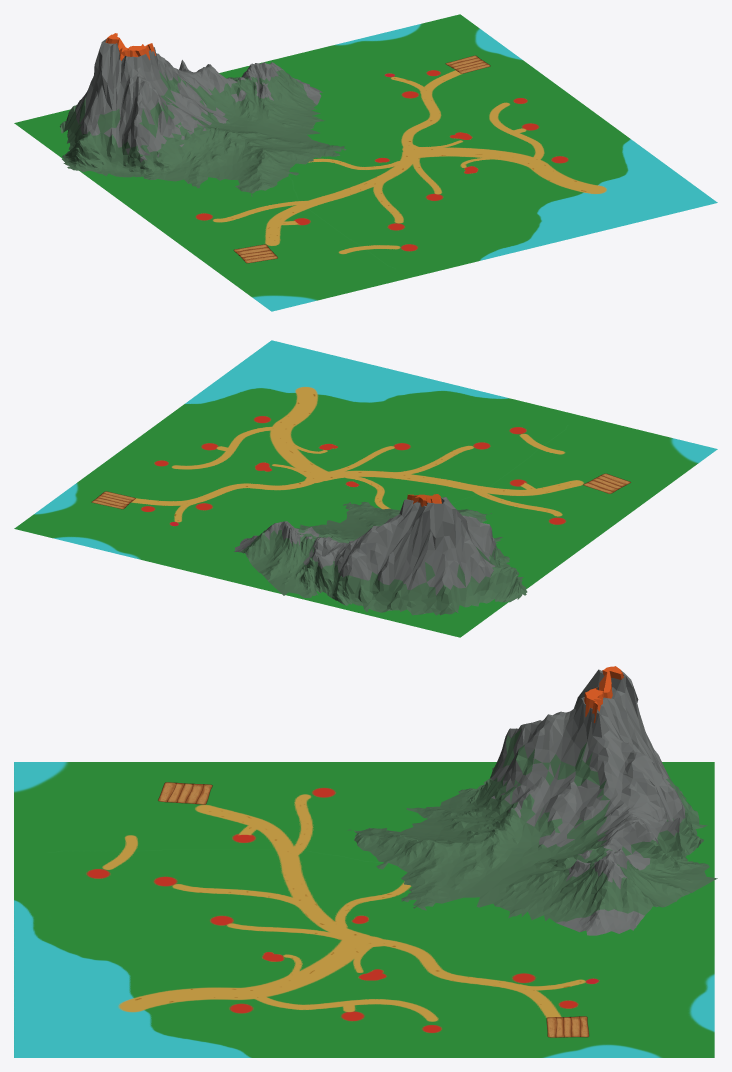
3 renders of one model, top to bottom at view 1: azimuth 30°, elevation 25°; view 2: azimuth 150°, elevation 25°; view 3: azimuth 270°, elevation 25°, orthographic. The views are drawn at different scales.
Visible parts, largest first — view 1: Ground.001, Mount, Empty.003, Mount.001, Empty.004; view 2: Ground.001, Mount, Empty.003, Empty.004; view 3: Ground.001, Mount, Empty.003, Empty.004, Mount.001.
Boxes of the visible parts, x1,y1,x2,y2 form: Ground.001: (14, 14, 717, 311); Mount: (60, 38, 346, 196); Empty.003: (233, 244, 277, 263); Mount.001: (105, 33, 155, 60); Empty.004: (445, 55, 490, 73); Ground.001: (14, 340, 717, 637); Mount: (234, 497, 527, 615); Empty.003: (583, 473, 630, 493); Empty.004: (91, 491, 135, 509); Ground.001: (14, 762, 714, 1057); Mount: (347, 669, 717, 935); Empty.003: (158, 782, 212, 804); Empty.004: (546, 1016, 589, 1037); Mount.001: (584, 666, 623, 722).
Size of the model in its own units: 152 by 33.01 by 151.
5 materials, 2 textured.
